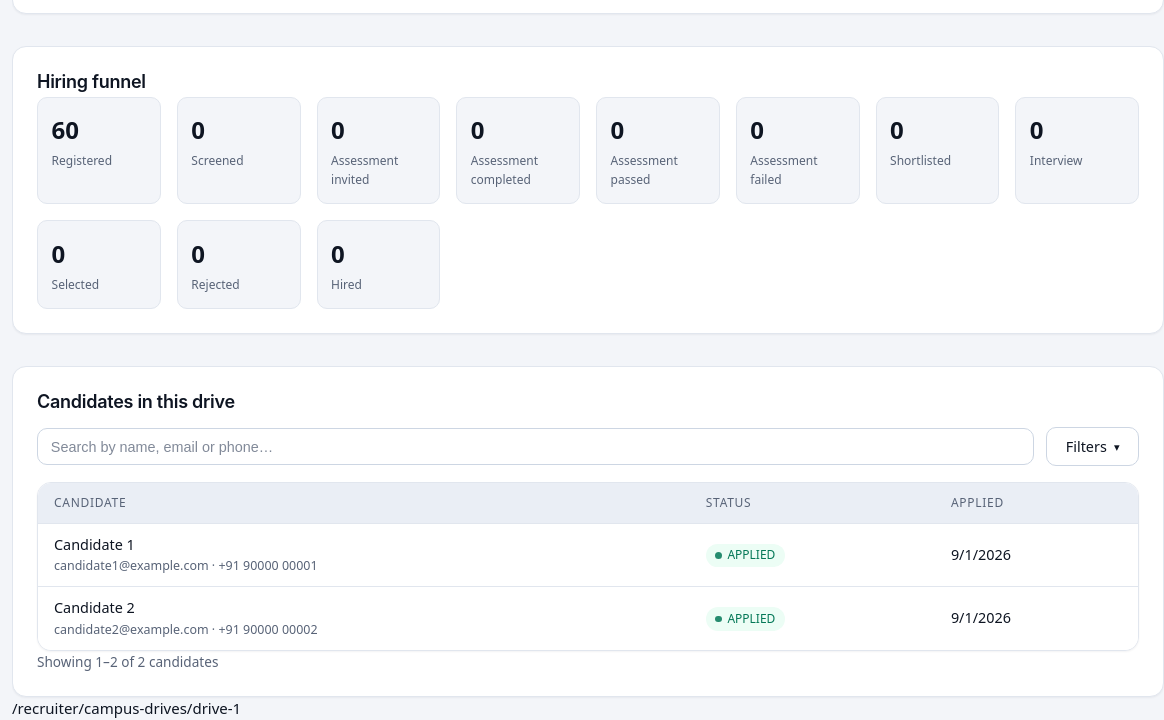
Test: CampusDriveDetailPage — Candidates in this drive › searches by name, email or phone on the server, debounced
(page scrolled)
Expected: the text "Candidate 1" is shown, x1=54 y1=535 x2=135 y2=554
In the search field named "Search candidates in this drive": (536, 447) x1=37 y1=428 x2=1034 y2=465, type "9"
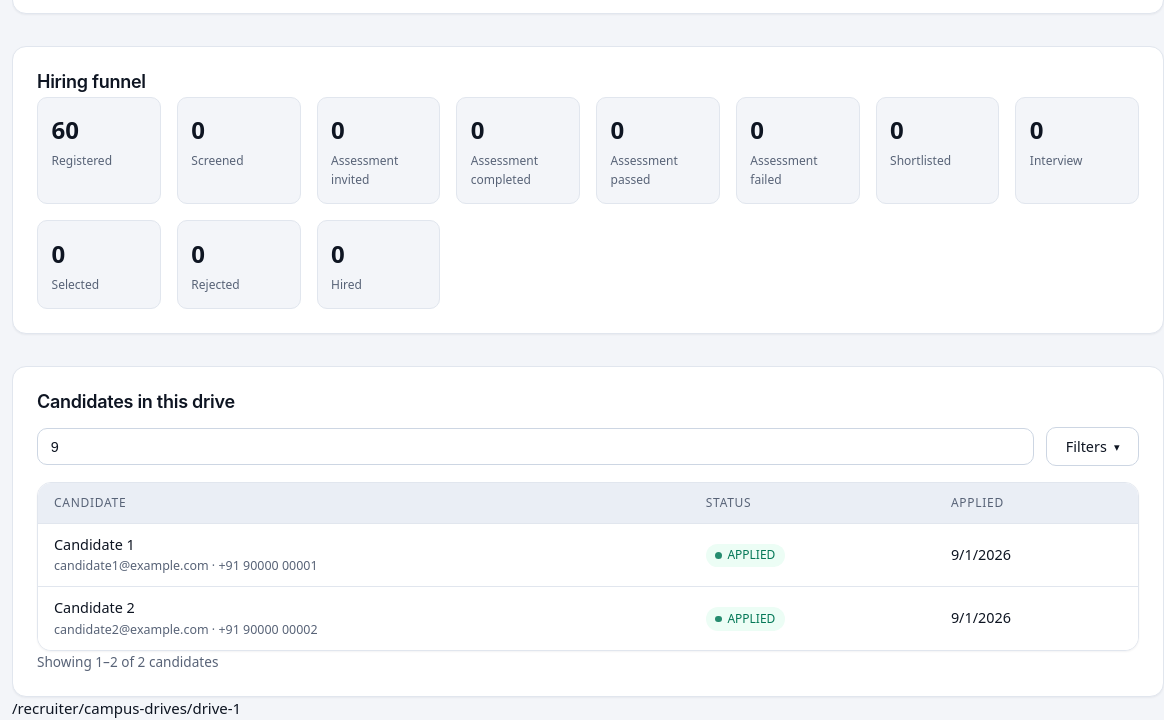
Replace the text in the search field named "Search candidates in this drive" with "98": (536, 447) x1=37 y1=428 x2=1034 y2=465
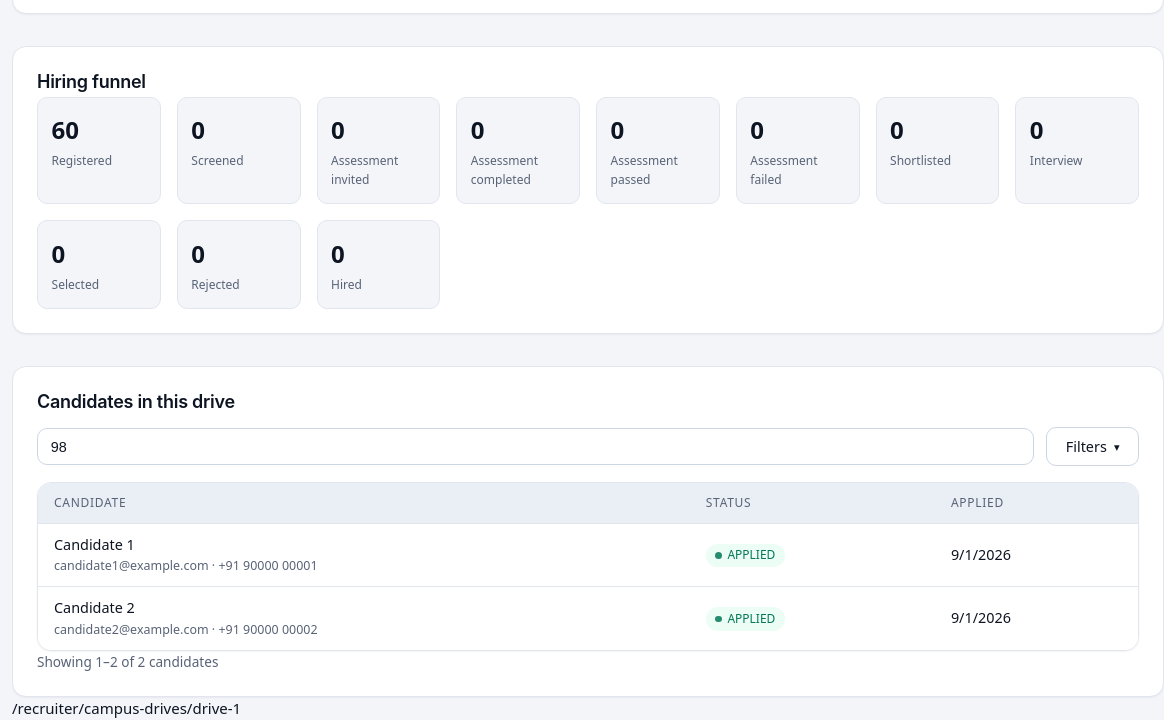
Replace the text in the search field named "Search candidates in this drive" with "98765": (536, 447) x1=37 y1=428 x2=1034 y2=465
(page scrolled)
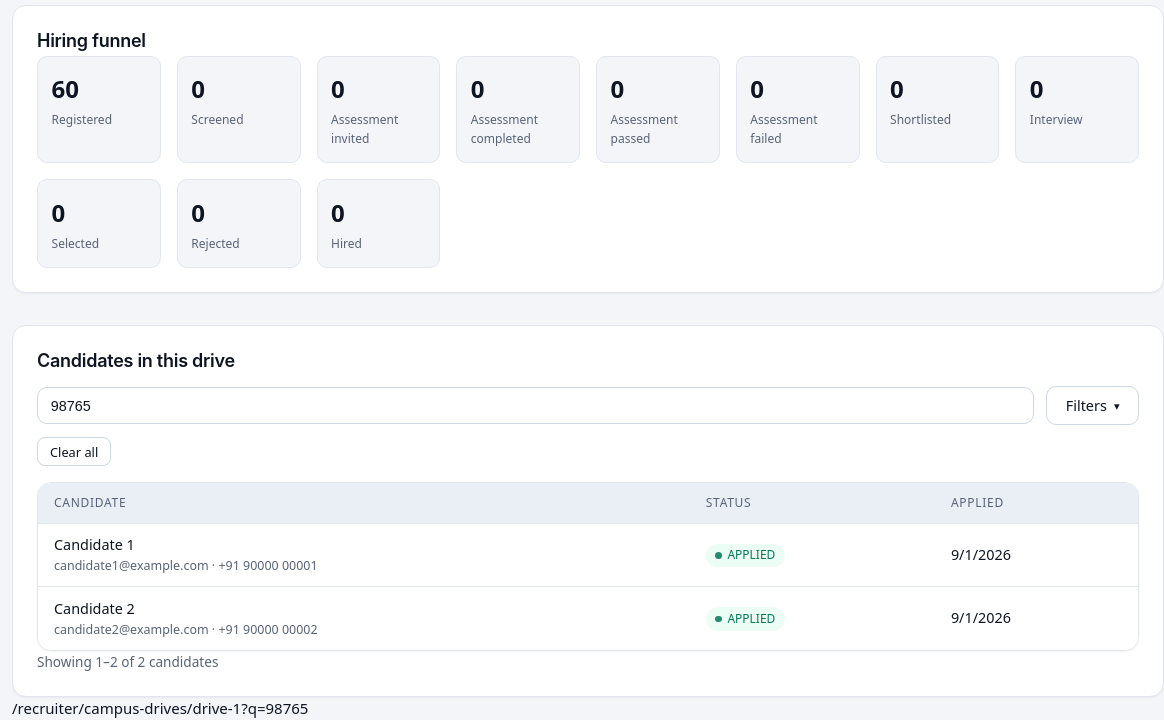
Now the text with test id "location" reads "/recruiter/campus-drives/drive-1?q=98765", box x1=12 y1=698 x2=308 y2=718
